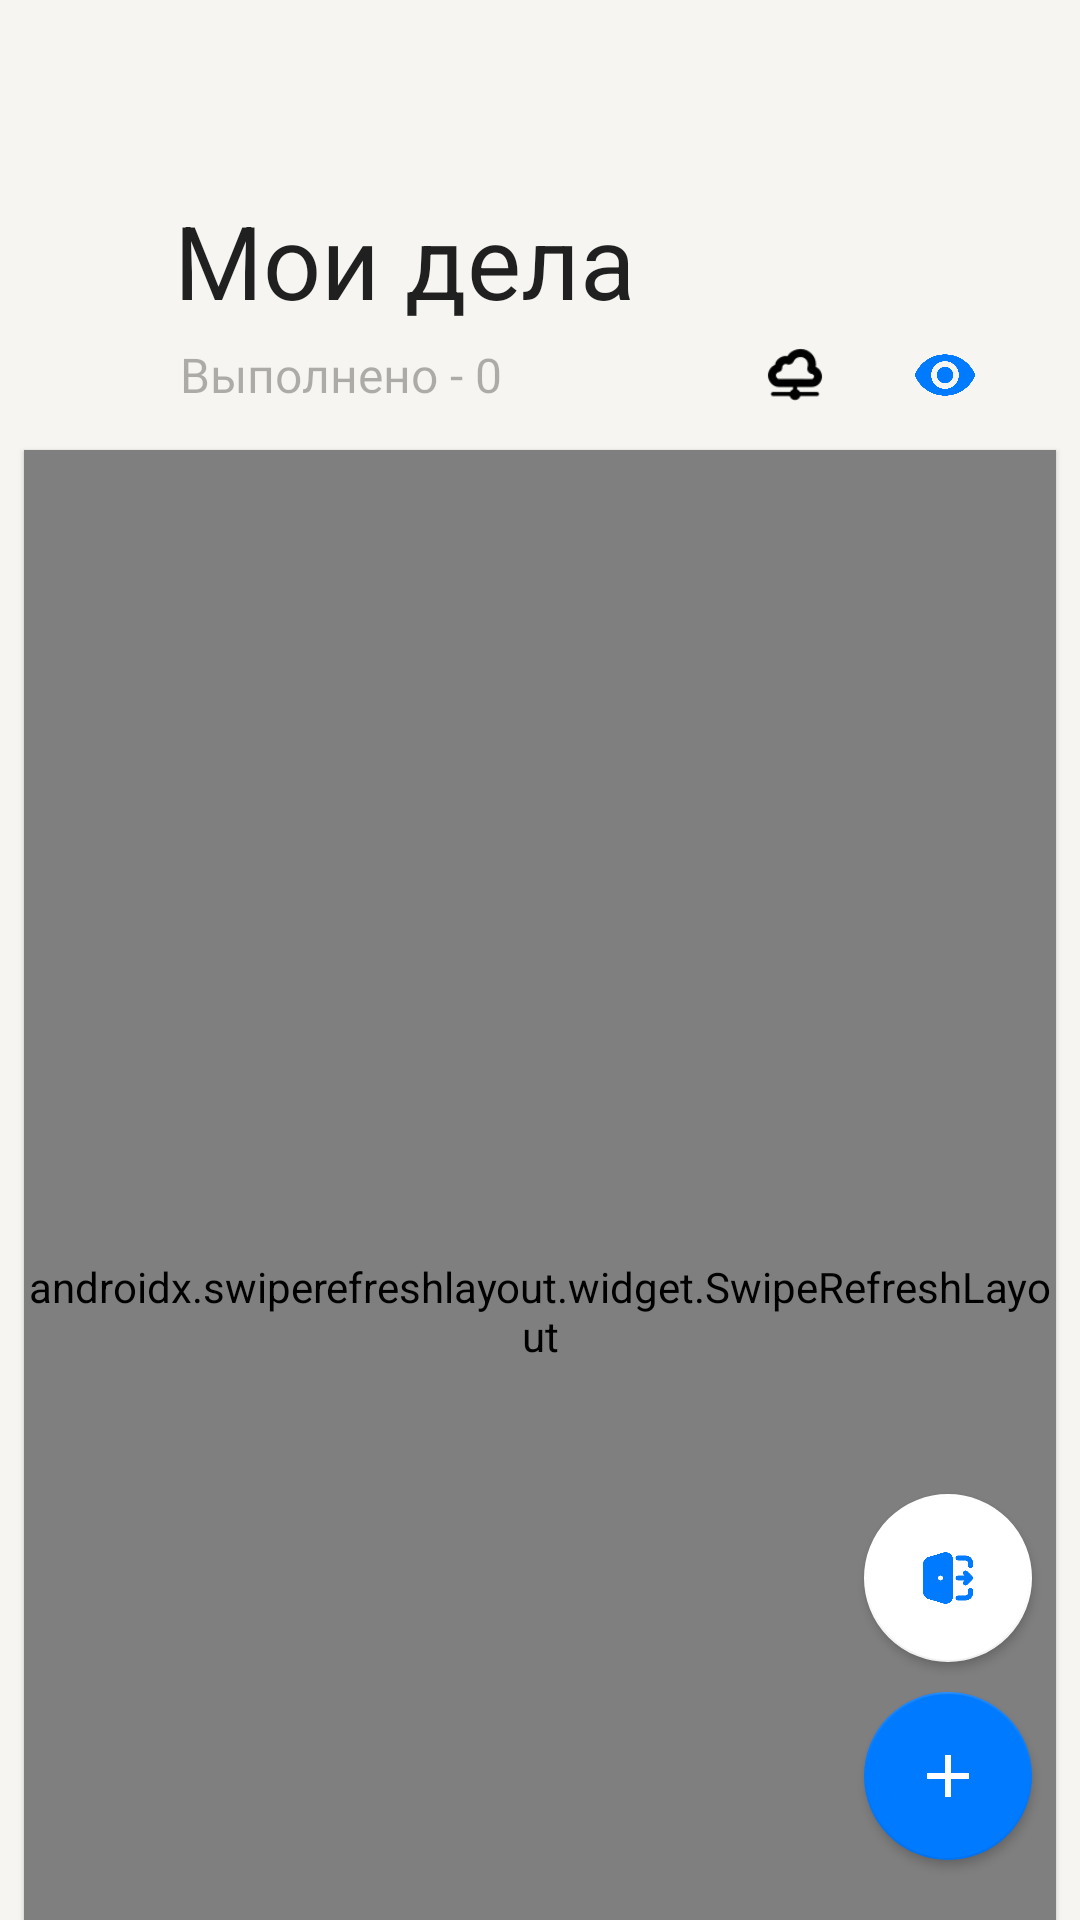

Icons on this 1080 x 1920 Android screen, each with its box as (x1,y1,x2,y2):
add: (864,1692,1032,1860)
log out: (864,1494,1032,1662)
online: (768,349,822,401)
visible: (915,354,975,396)
